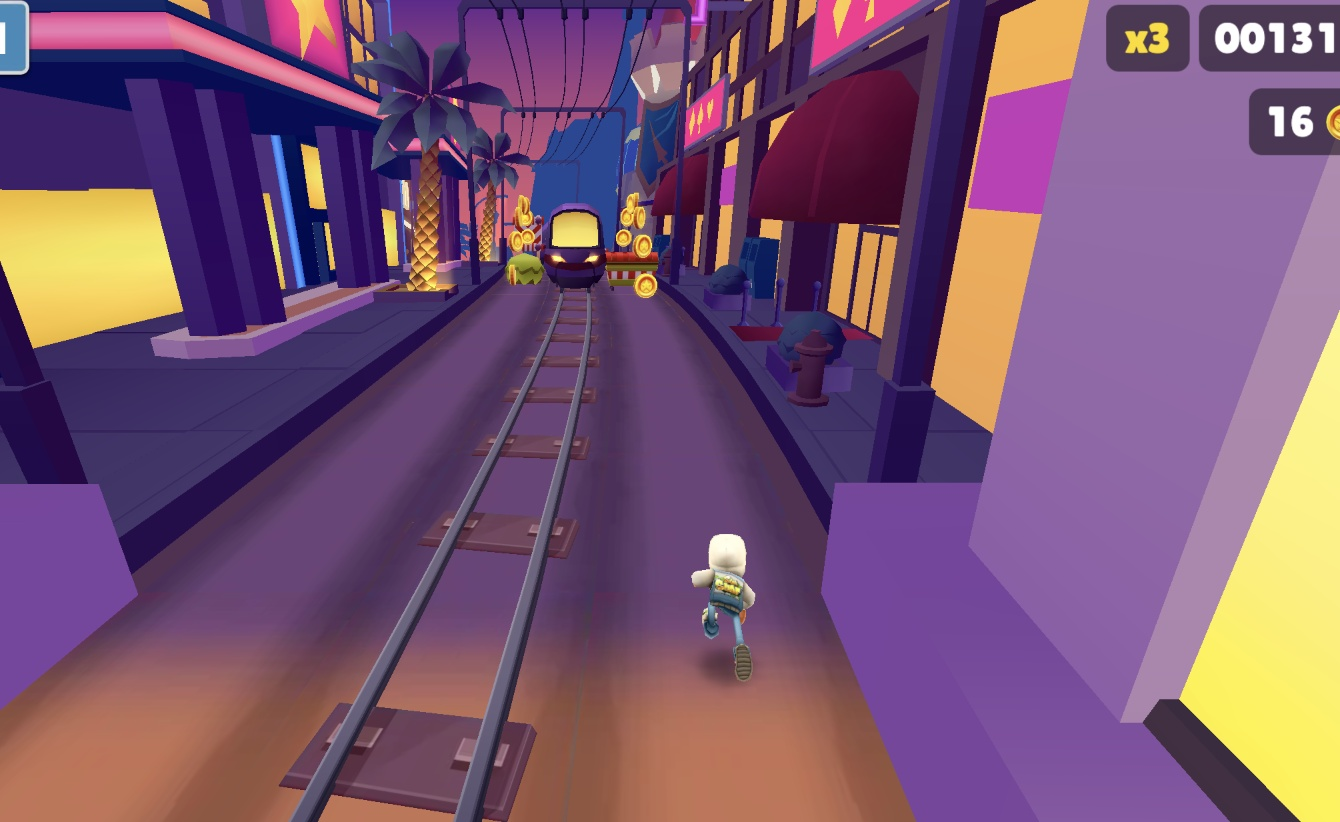bush: (505, 249, 543, 283)
ground_barrier: (601, 251, 657, 284)
overhead_barrier: (514, 213, 543, 251)
train: (539, 203, 602, 292)
